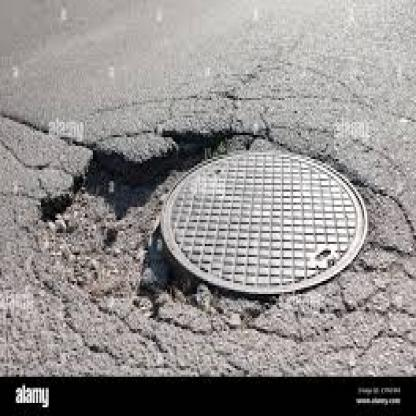closed manhole-not overflowing-: (77, 133, 374, 311)
